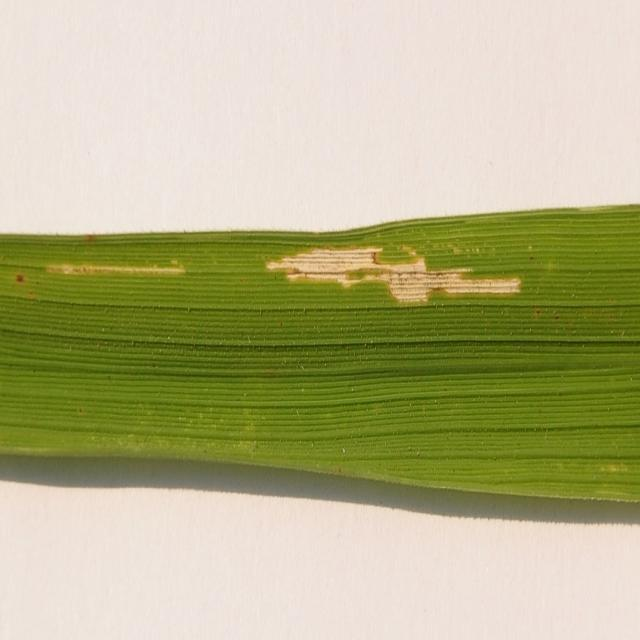bacterial_leaf_blight: (267, 248, 520, 303), (47, 265, 140, 274)
